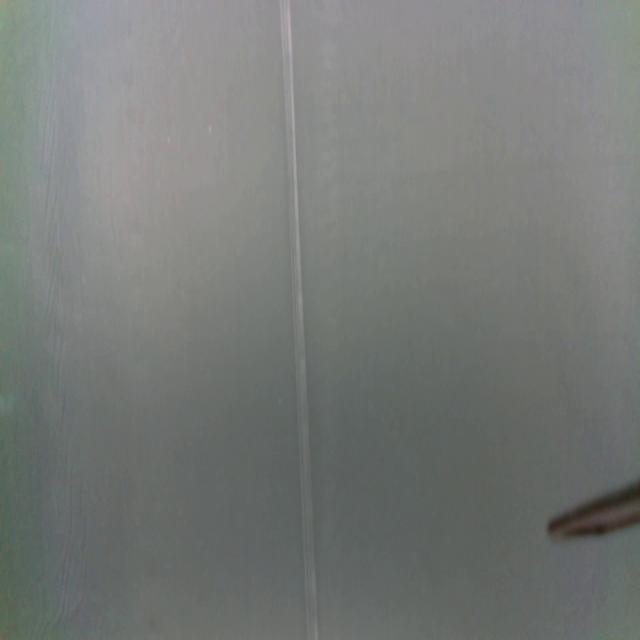crease: (280, 0, 320, 640)
